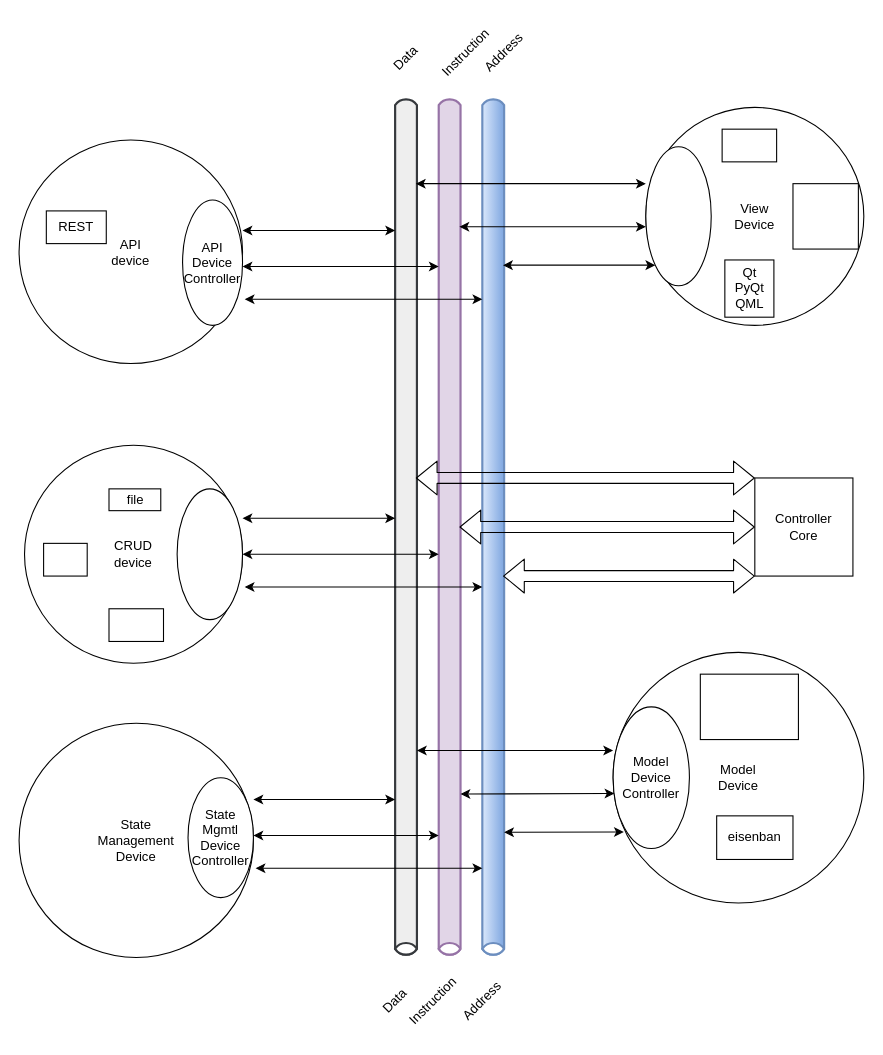
Some shapes in this 883 by 1055 pixel diagram are drawn without their labels. Each missing label, with the centre of its shape:
"Command Line" belongs at (825,216).
"CRUD Device Controller" belongs at (209,554).
"Java" belongs at (749,145).
"leaning and research accellerator" belongs at (748,706).
"NOSQL" belongs at (136,624).
"RMDB" belongs at (65,559).
"View Device Controller" belongs at (678,216).
